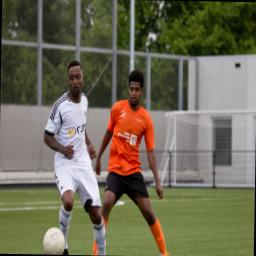football: (43, 226, 65, 254)
